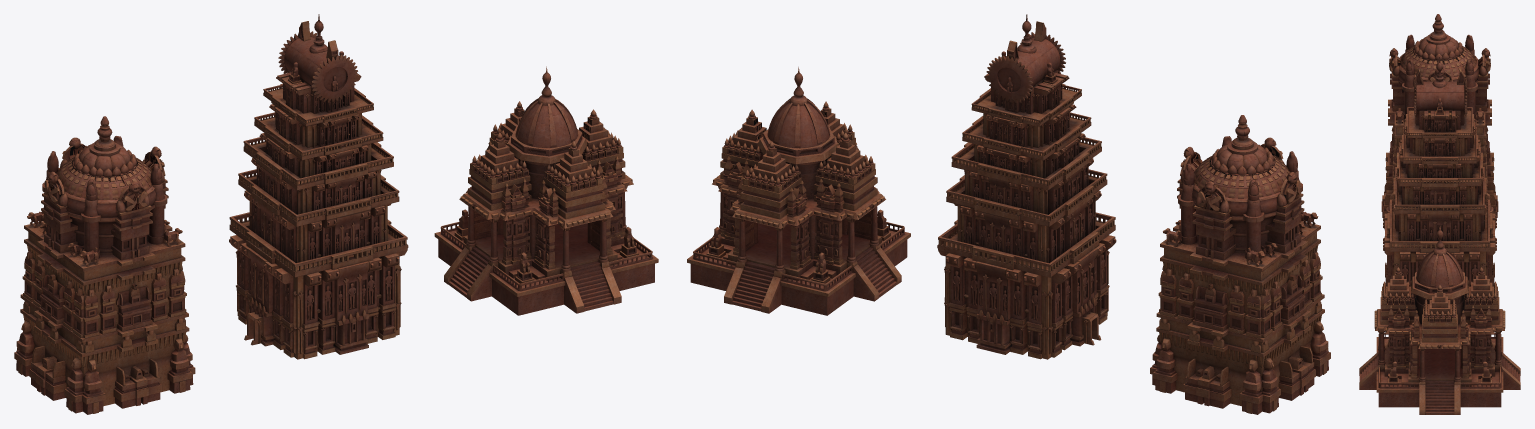
File: temples_1.fbx
3 views of the same model, side by side, from view 1: azimuth 30°, elevation 25°; view 2: azimuth 150°, elevation 25°; view 3: azimuth 270°, elevation 25° (orthographic). The views are drawn at different scales.
Visible parts, largest first — view 1: Cube.303, Cube.051, Plane.017; view 2: Cube.303, Cube.051, Plane.017; view 3: Plane.017, Cube.303, Cube.051.
Part boxes in pixels (<box>): Cube.303: <box>229,14,408,359</box>; Cube.051: <box>14,116,195,414</box>; Plane.017: <box>434,66,658,315</box>; Cube.303: <box>937,14,1116,359</box>; Cube.051: <box>1150,115,1330,414</box>; Plane.017: <box>687,67,910,315</box>; Plane.017: <box>1359,226,1520,414</box>; Cube.303: <box>1383,57,1496,286</box>; Cube.051: <box>1381,14,1498,217</box>.
Size of the model in its own units: 4857 by 2424 by 1479.
